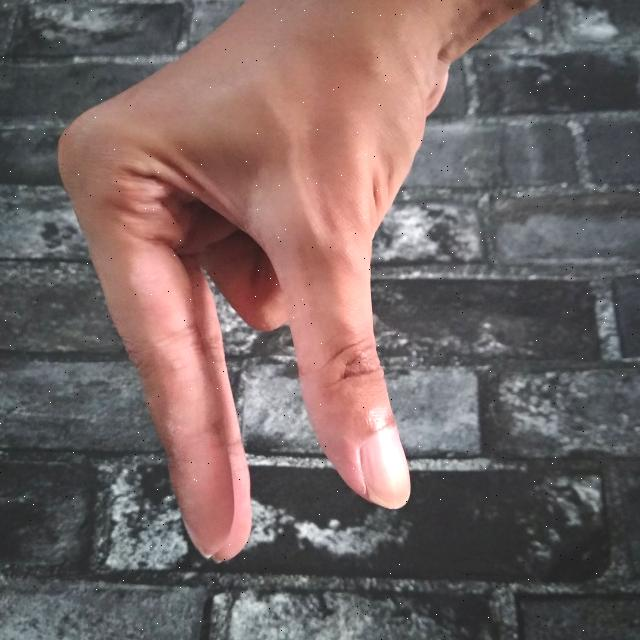Q: (53, 0, 566, 567)
